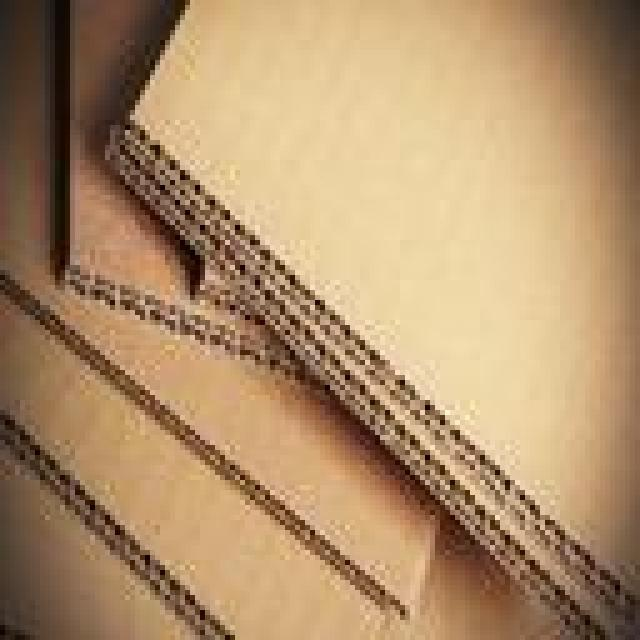cardboard: (100, 0, 635, 635), (0, 0, 445, 615), (0, 295, 610, 635), (60, 0, 320, 385), (0, 440, 205, 635), (190, 260, 260, 315)
